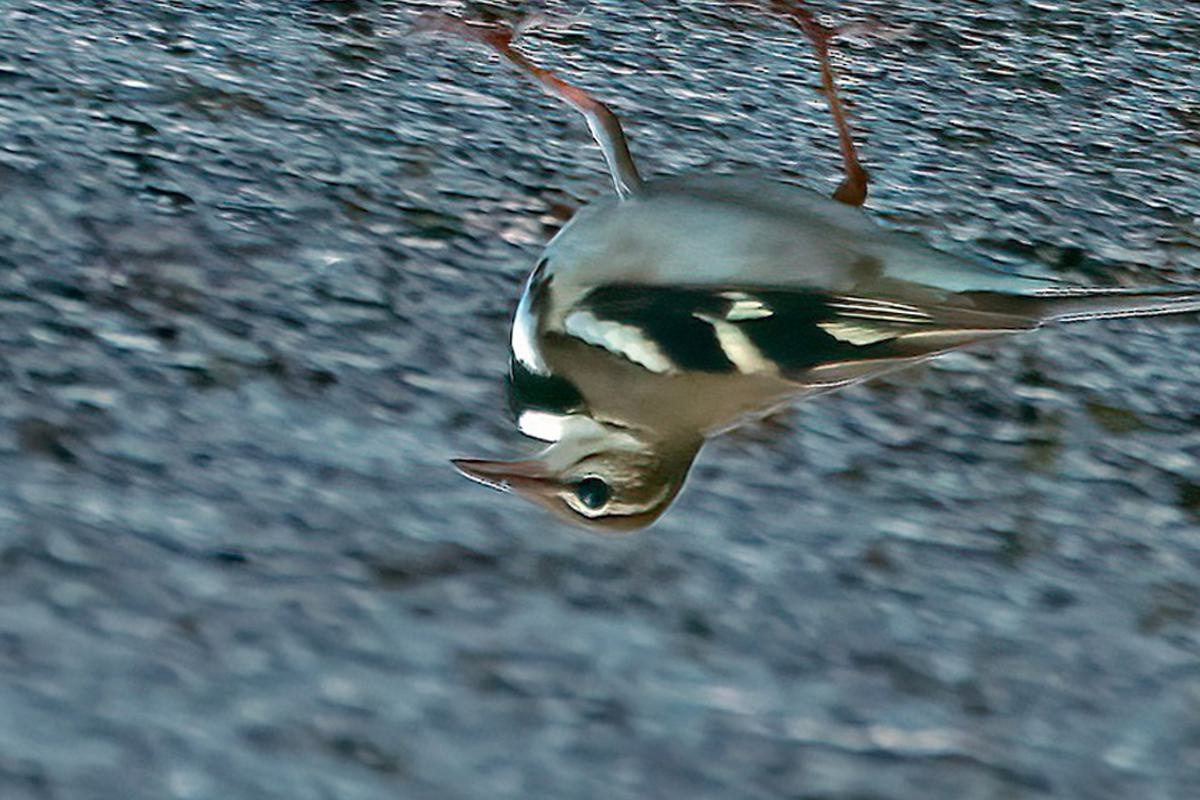wagtail: (421, 103, 1088, 544)
